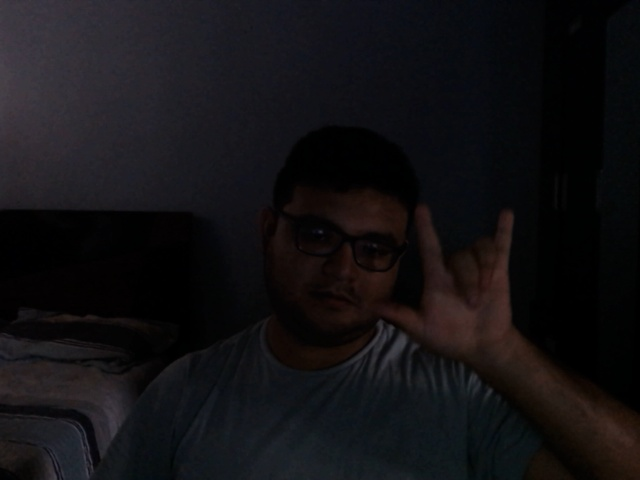I love you: (368, 203, 521, 370)
